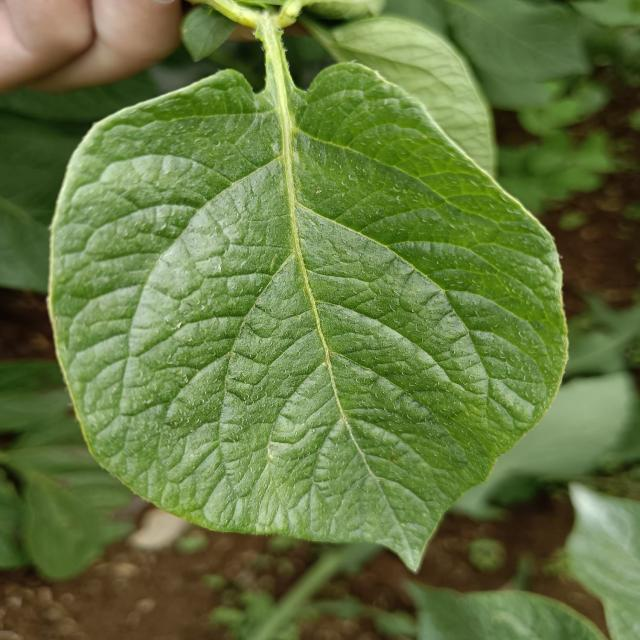healthy: (44, 34, 572, 574)
